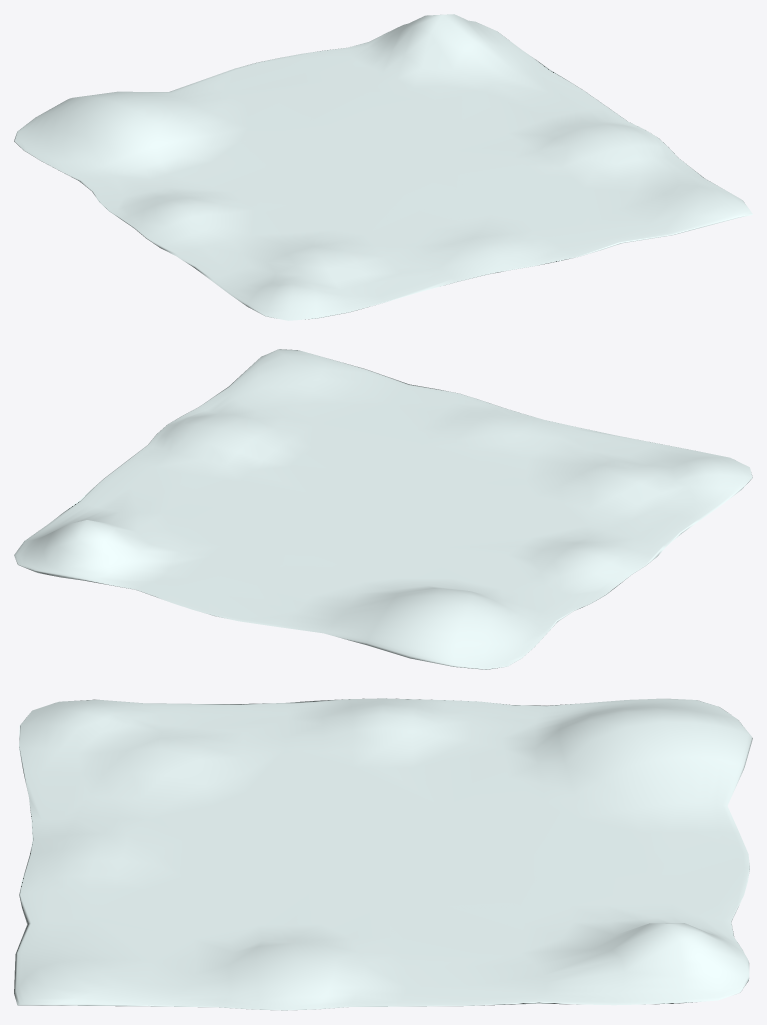
Rendered from snow.obj.
The picture shows the model from 3 angles, top to bottom: view 1: azimuth 30°, elevation 25°; view 2: azimuth 150°, elevation 25°; view 3: azimuth 270°, elevation 25°; orthographic projection. The views are drawn at different scales.
Visible parts, largest first — view 1: pCube1; view 2: pCube1; view 3: pCube1.
Part boxes in pixels (x1,y1,x2,y2): pCube1: (14, 14, 752, 320); pCube1: (14, 349, 752, 669); pCube1: (14, 698, 752, 1010).
Size of the model in its own units: 23.93 by 1.79 by 23.96.
